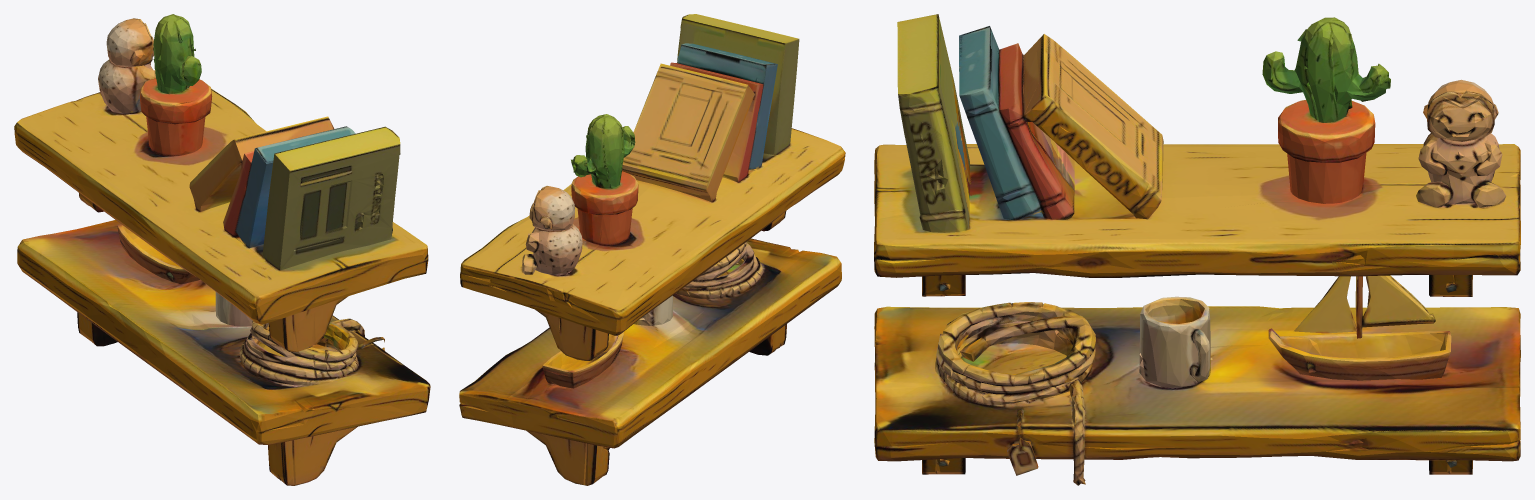
Rendered from wooden+shelf+3d+model.fbx.
3 views of the same model, side by side, from view 1: azimuth 30°, elevation 25°; view 2: azimuth 150°, elevation 25°; view 3: azimuth 270°, elevation 25° (orthographic). The views are drawn at different scales.
Visible parts, largest first — view 1: tripo_node_3f0d9cd9; view 2: tripo_node_3f0d9cd9; view 3: tripo_node_3f0d9cd9.
Boxes of the visible parts, left/top/right/bottom form: tripo_node_3f0d9cd9: left=14, top=14, right=430, bottom=485; tripo_node_3f0d9cd9: left=459, top=14, right=845, bottom=485; tripo_node_3f0d9cd9: left=874, top=14, right=1520, bottom=485.
Size of the model in its own units: 0.445 by 0.7924 by 1.
Materials: 1 (1 with a texture image).
